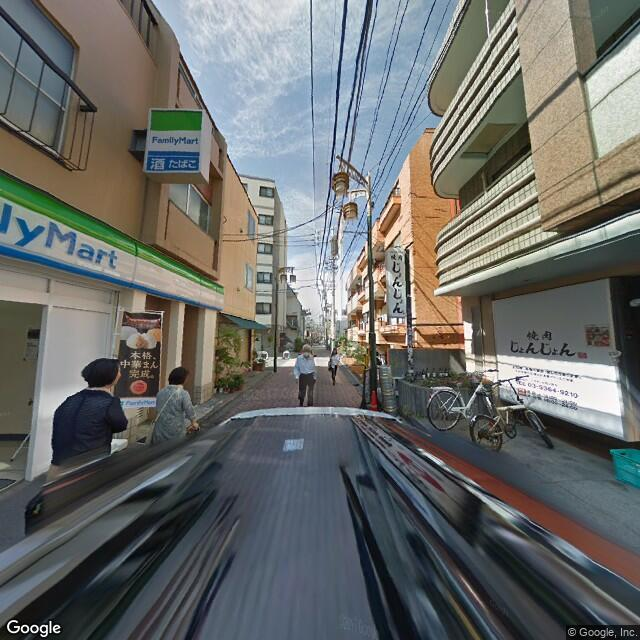family_mart: (1, 174, 223, 315), (144, 103, 205, 169)
